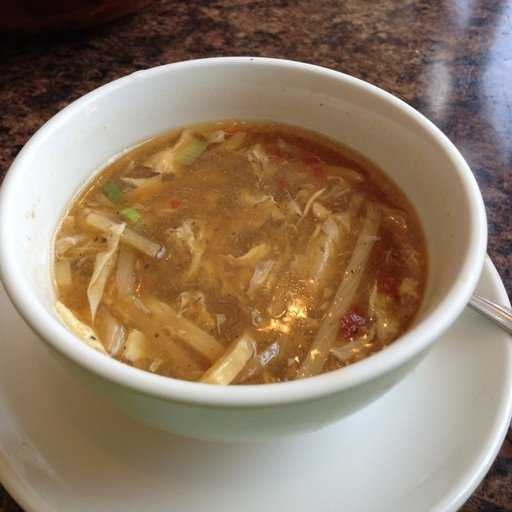soup: (33, 105, 484, 384)
